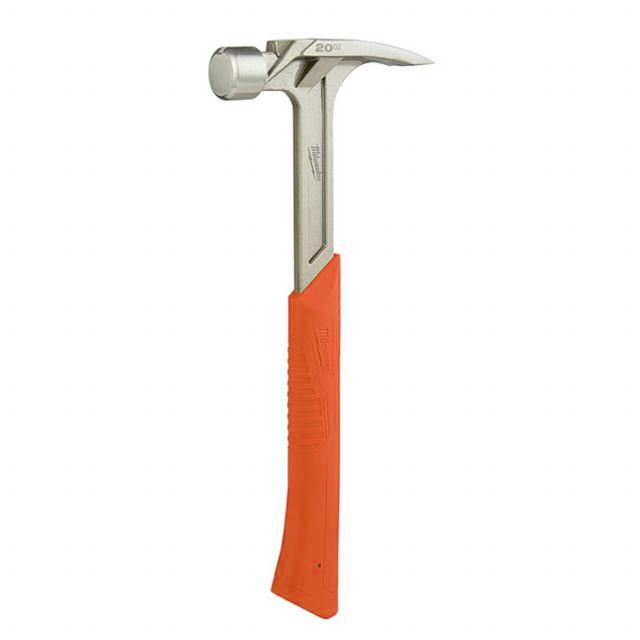hammer: (196, 14, 442, 626)
